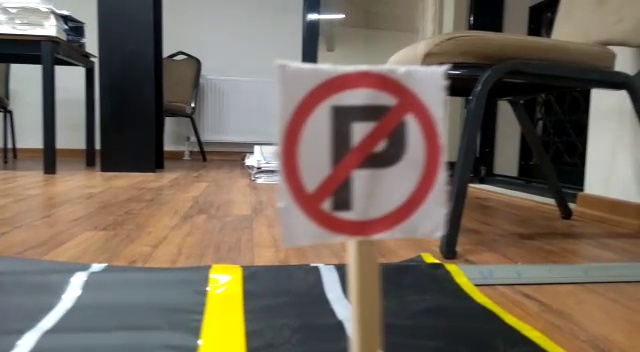park_yapilmaz: (281, 62, 446, 237)
